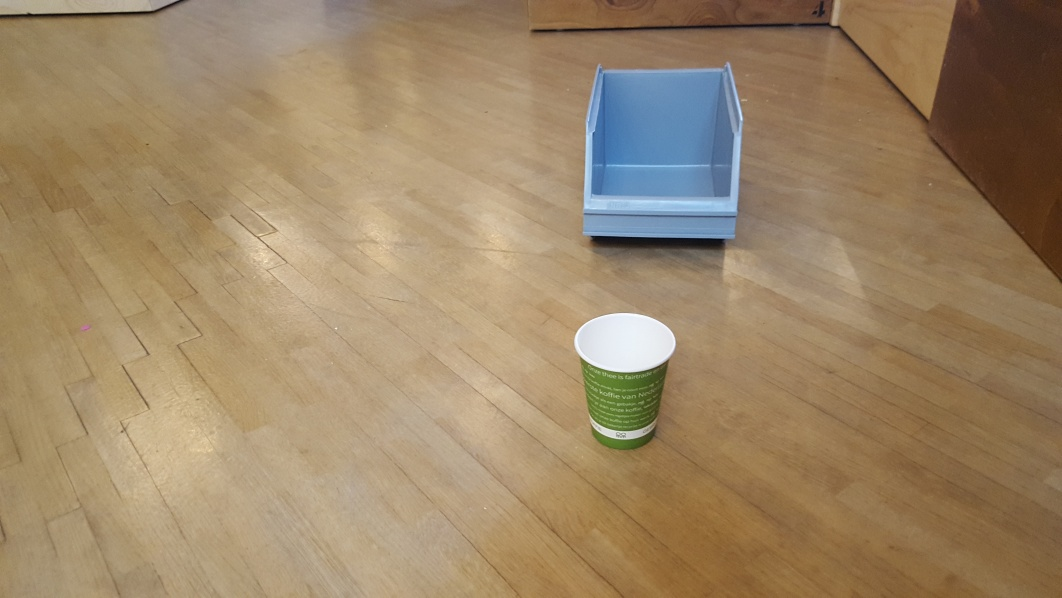cup: (572, 311, 677, 450)
tray: (583, 63, 745, 250)
